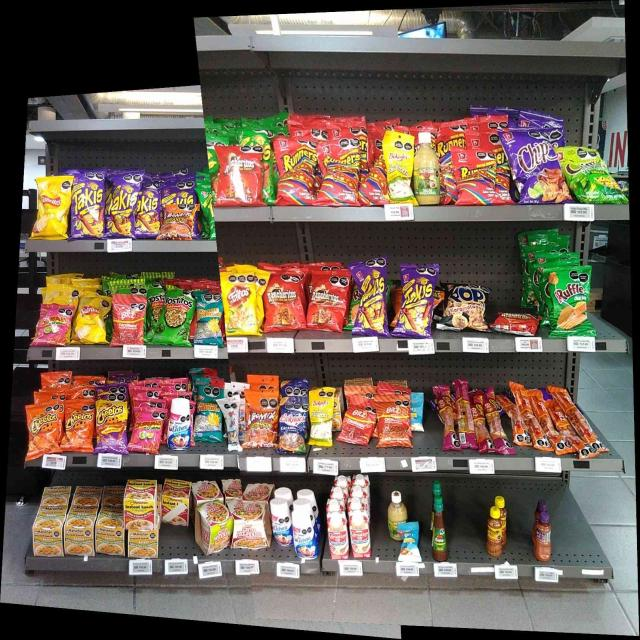bitzAlmendras: (398, 523, 420, 563)
bitzEnchilado90: (110, 293, 145, 347), (376, 396, 410, 447), (341, 399, 372, 446)
bitzEnchilado95: (506, 382, 600, 458)
bitzHabanero: (434, 382, 498, 454)
bokadosCacahuates: (283, 398, 307, 456)
botaneraChilito: (485, 504, 502, 556)
cheetosFlaminHot: (96, 393, 128, 454)
cheetosOriginal: (26, 406, 61, 453), (63, 402, 94, 455)
chipsFuego: (515, 127, 556, 202)
chipsPapatinas: (560, 147, 614, 204)
churrumais: (40, 305, 71, 343), (134, 410, 161, 452)
delPrimoSalsa: (420, 135, 440, 204), (384, 489, 408, 520)
fritosLimon: (226, 273, 260, 336)
leoCacahuates: (225, 400, 242, 452)
leoMix: (245, 390, 278, 447), (164, 204, 194, 241)
maruchanPollo: (34, 503, 64, 558), (67, 506, 95, 556), (98, 508, 124, 554), (129, 534, 159, 558)
maruchanRes: (128, 481, 155, 527), (162, 482, 188, 525)
nestleCarnation: (327, 512, 349, 561), (352, 512, 372, 558)
nestleLechera: (167, 399, 191, 451), (294, 512, 316, 558), (271, 498, 292, 546)
nissinCamaron: (194, 501, 230, 552)
nissinRes: (235, 500, 268, 549)
popKarameladas: (445, 286, 489, 335)
rancheritos: (215, 147, 262, 205), (307, 270, 346, 333), (262, 273, 303, 332)
rufflesQueso: (548, 270, 589, 334)
runners: (272, 139, 313, 205), (451, 148, 498, 205), (318, 144, 358, 206)
sabritasOriginal: (36, 177, 70, 240), (75, 293, 108, 343)
salsaBufalo: (432, 498, 447, 562)
semillasCalabaza: (382, 134, 416, 206), (309, 390, 332, 447)
semillasGirasol: (195, 293, 224, 346), (197, 383, 221, 443)
tajinDulce: (533, 513, 552, 561)
takisFuego: (350, 264, 387, 336), (402, 267, 432, 334), (73, 172, 103, 238), (107, 172, 136, 236), (140, 183, 158, 236)
tostitos: (164, 292, 192, 343)
